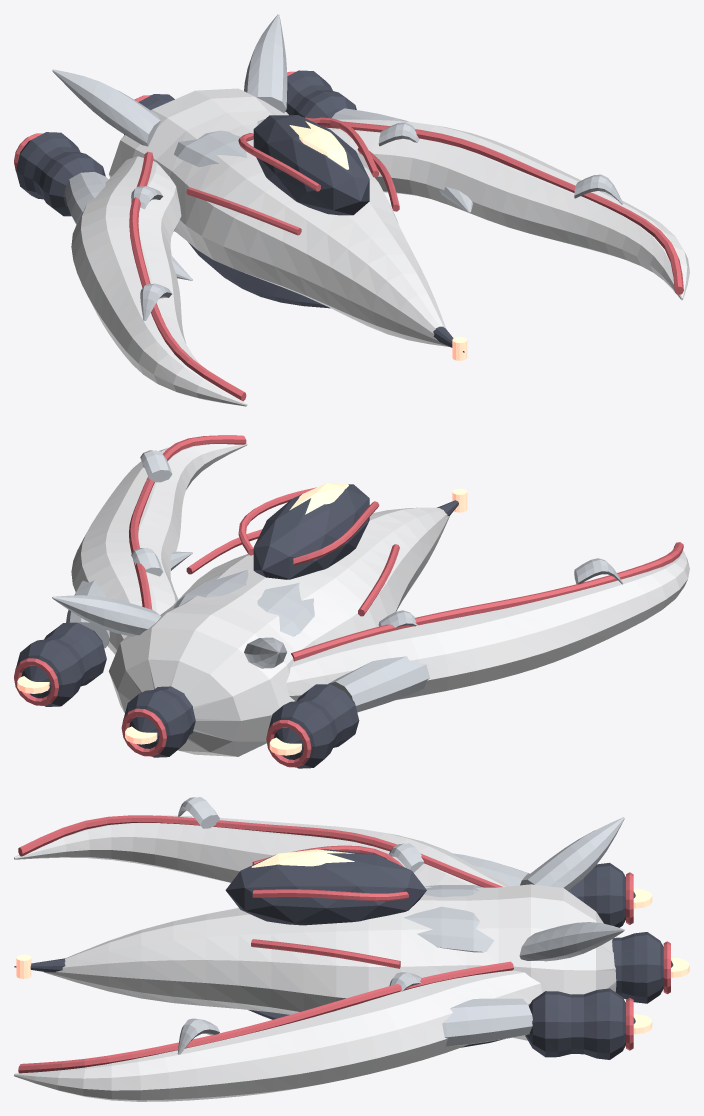
The model's file is SL_AURORA_LOD.glb.
3 renders of one model, top to bottom at view 1: azimuth 30°, elevation 25°; view 2: azimuth 150°, elevation 25°; view 3: azimuth 270°, elevation 25°, orthographic.
Parts seen in each view (by area): view 1: armor, dark, plate, accent, energy; view 2: armor, dark, plate, accent, energy; view 3: armor, dark, plate, accent, energy.
Part boxes in pixels (x1,y1,x2,y2): armor: (71,88,689,406); dark: (16,70,464,352); plate: (52,14,623,320); accent: (14,71,683,401); energy: (289,121,467,360); armor: (71,443,689,756); dark: (16,484,458,768); plate: (52,450,623,712); accent: (14,435,683,767); energy: (17,483,467,755); armor: (14,815,616,1101); dark: (14,849,673,1059); plate: (177,797,624,1054); accent: (18,815,670,1073); energy: (16,849,689,1034).
Bounding box in the file's own units: 5.3 × 1.75 × 5.77.
